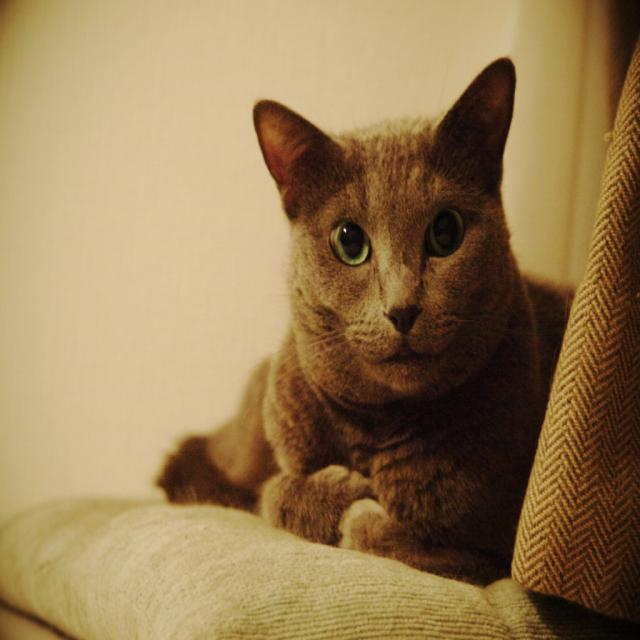Cat: (150, 51, 543, 554)
